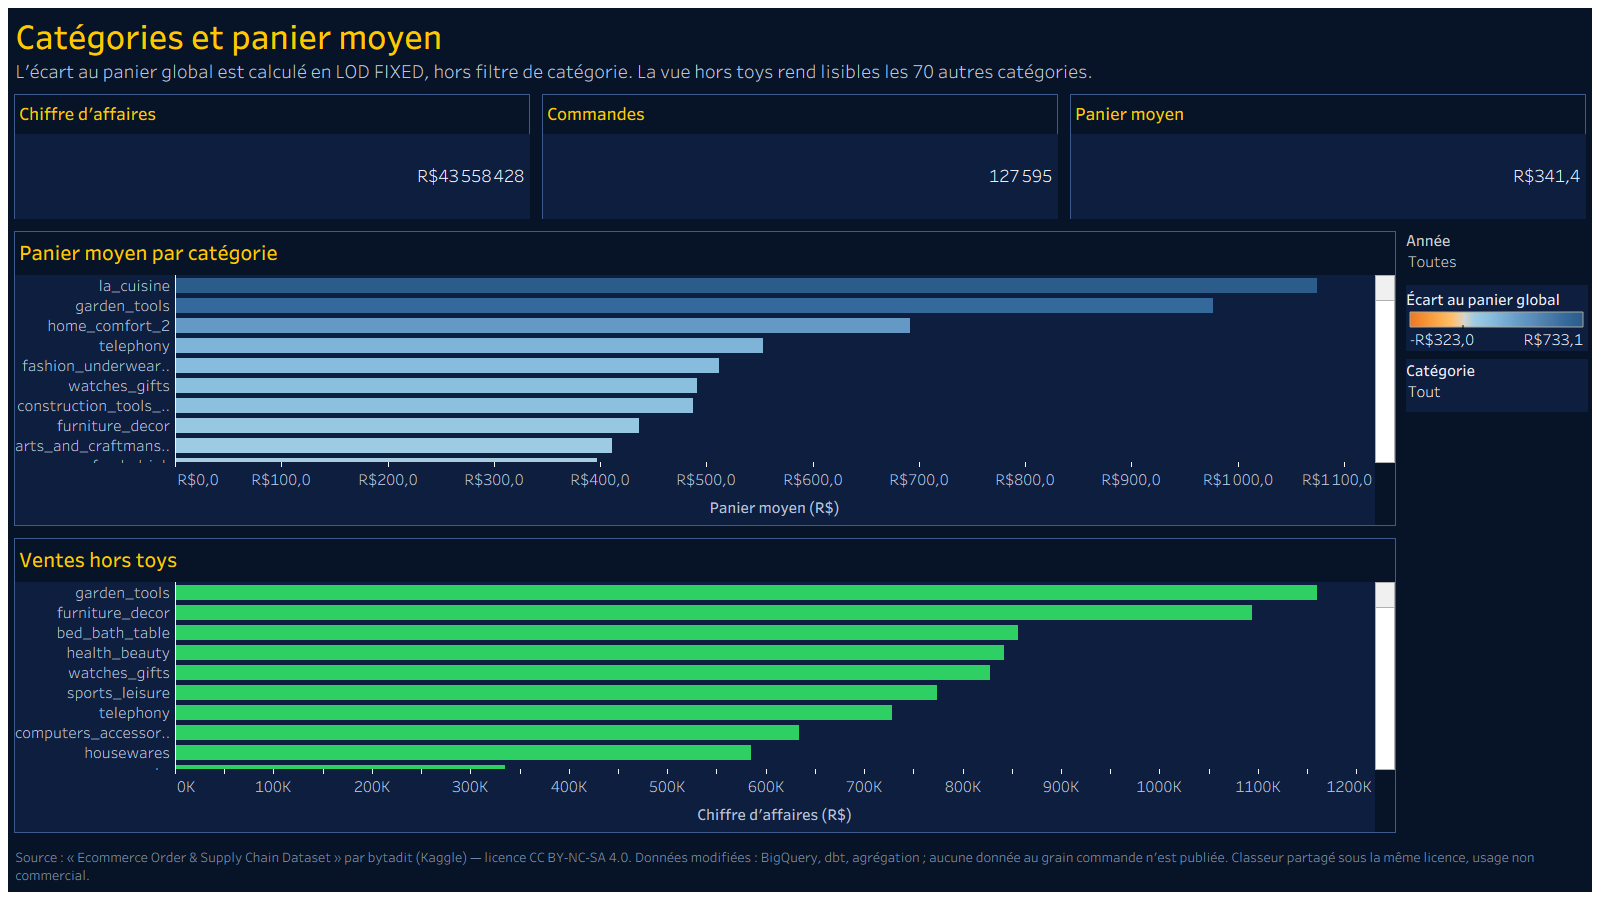

Layout of this report page (visuals, bound fields, positions):
{"tool":"tableau","page":{"name":"Catégories et produits","canvas":[1600,900],"ordinal":0},"visuals":[{"type":"text","box":[12.8,9,1574.4,79.4]},{"type":"worksheet","title":"KPI Chiffre d'affaires","mark":"Automatic","box":[12.8,88.4,524.8,136.7]},{"type":"worksheet","title":"KPI Commandes","mark":"Automatic","box":[537.6,88.4,524.8,136.7]},{"type":"worksheet","title":"KPI Panier moyen","mark":"Automatic","box":[1062.3,88.4,524.9,136.7]},{"type":"worksheet","title":"Panier moyen par catégorie","mark":"Automatic","rows":["Calculation_1473408857305094"],"cols":["Calculation_1473408857407495"],"box":[12.8,225.1,1317.8,306.5]},{"type":"parameter","param":"[Parameters].[Paramètre 1473408854364161]","box":[1330.6,225.1,256.6,79.7]},{"type":"legend","title":"Panier moyen par catégorie","param":"[federated.031hxyk128uqvt1cfaucy0l2p0hk].[usr:Calculation_1473408863215627:qk]","box":[1330.6,304.8,256.6,165.5]},{"type":"filter","title":"Panier moyen par catégorie","param":"[federated.031hxyk128uqvt1cfaucy0l2p0hk].[none:Calculation_1473408857305094:nk]","box":[1330.6,470.3,256.6,367.8]},{"type":"worksheet","title":"Ventes hors toys","mark":"Automatic","rows":["Calculation_1473408857305094"],"cols":["total_price"],"box":[12.8,531.6,1317.8,306.5]},{"type":"text","box":[12.8,838.1,1574.4,52.9]}]}

Visuals, with their boxes in screenshot pixels (x1, y1, x2, y2), scaled from the page's 1600x900 canvas onto the 1600x900 screenshot:
text: locate(13, 9, 1587, 88)
"KPI Chiffre d'affaires" worksheet: locate(13, 88, 538, 225)
"KPI Commandes" worksheet: locate(538, 88, 1062, 225)
"KPI Panier moyen" worksheet: locate(1062, 88, 1587, 225)
"Panier moyen par catégorie" worksheet: locate(13, 225, 1331, 532)
parameter: locate(1331, 225, 1587, 305)
"Panier moyen par catégorie" legend: locate(1331, 305, 1587, 470)
"Panier moyen par catégorie" filter: locate(1331, 470, 1587, 838)
"Ventes hors toys" worksheet: locate(13, 532, 1331, 838)
text: locate(13, 838, 1587, 891)
